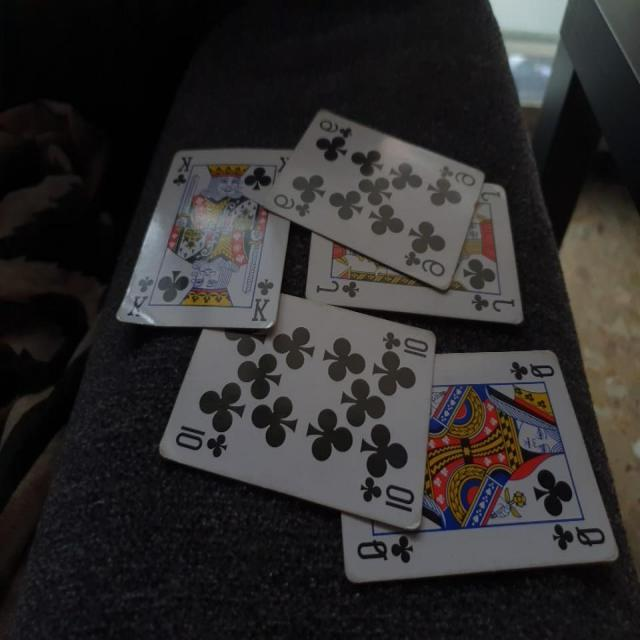10 of clubs: (160, 288, 438, 532)
9 of clubs: (260, 106, 487, 290)
jack of clubs: (306, 180, 525, 326)
king of clubs: (116, 144, 294, 328)
queen of clubs: (339, 348, 619, 585)
